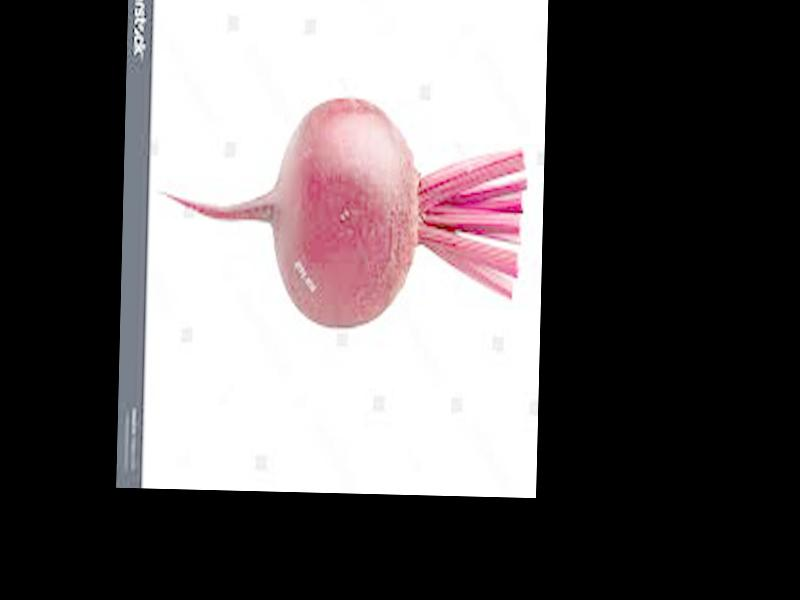Beet: (156, 94, 527, 332)
